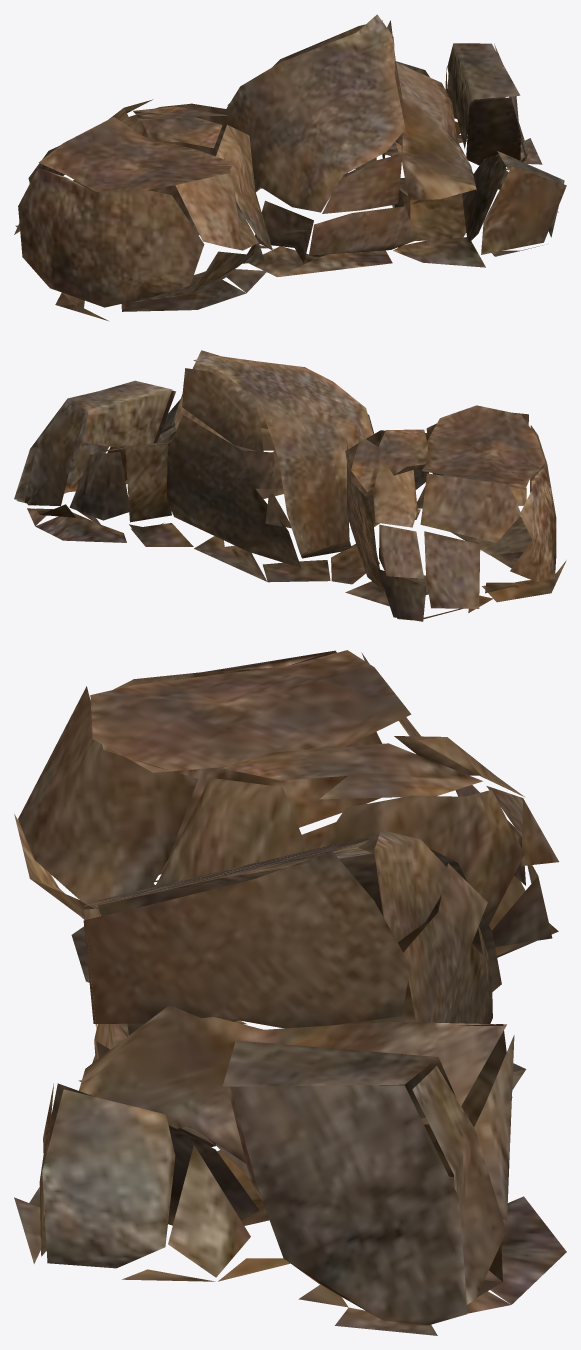
The model's file is namaqualand_boulder_02_lod2.glb.
3 renders of one model, top to bottom at view 1: azimuth 30°, elevation 25°; view 2: azimuth 150°, elevation 25°; view 3: azimuth 270°, elevation 25°, orthographic. The views are drawn at different scales.
Parts seen in each view (by area): view 1: boulder_02; view 2: boulder_02; view 3: boulder_02.
Part boxes in pixels (x1,y1,x2,y2): boulder_02: (14,14,566,320); boulder_02: (14,350,566,621); boulder_02: (14,650,566,1335).
Size of the model in its own units: 2.49 by 0.8502 by 1.22.
1 material, 1 textured.
